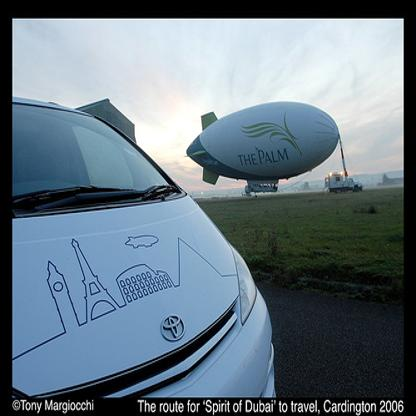Airship: (183, 102, 341, 191)
